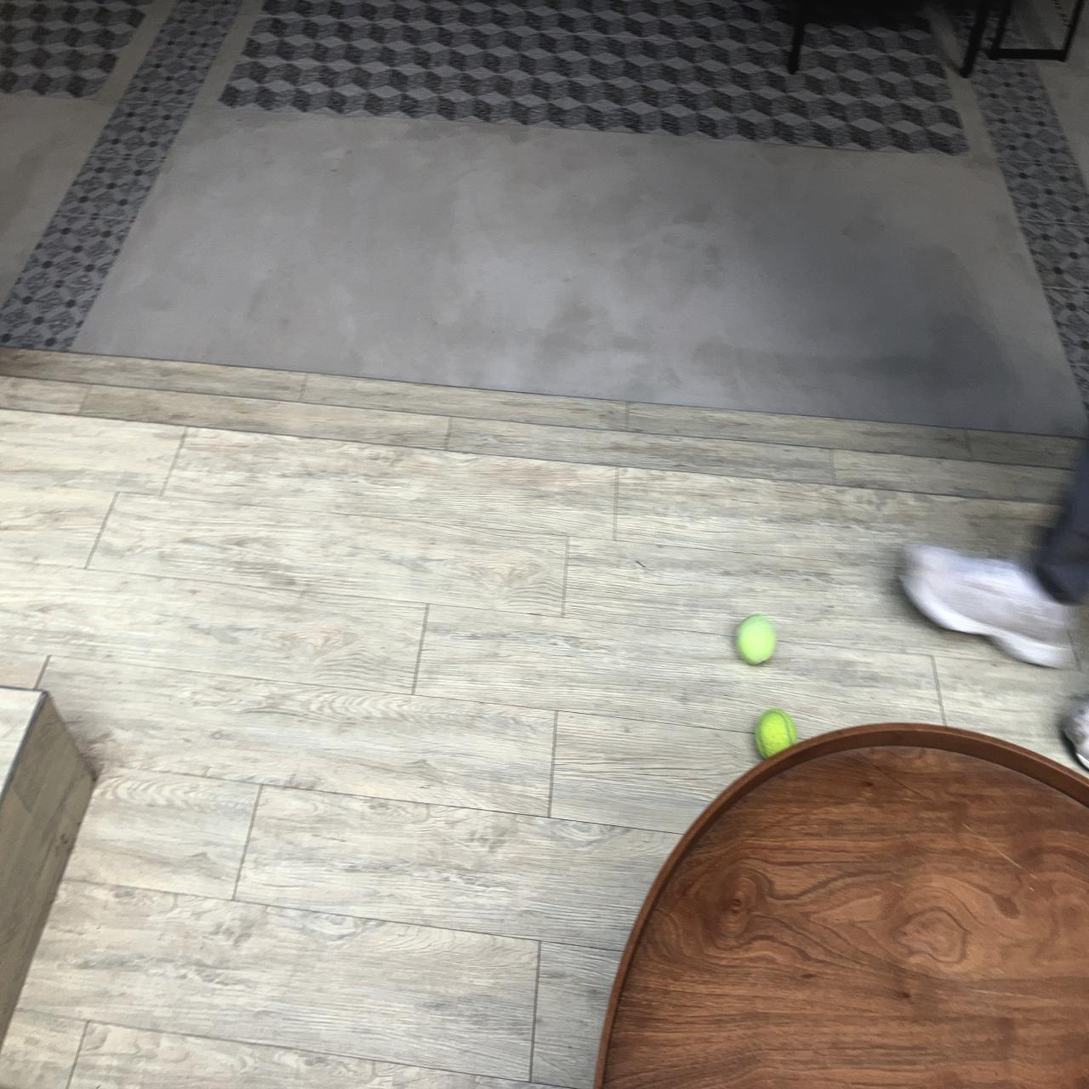tennisball: (248, 1007, 285, 1064), (318, 981, 356, 1036)
